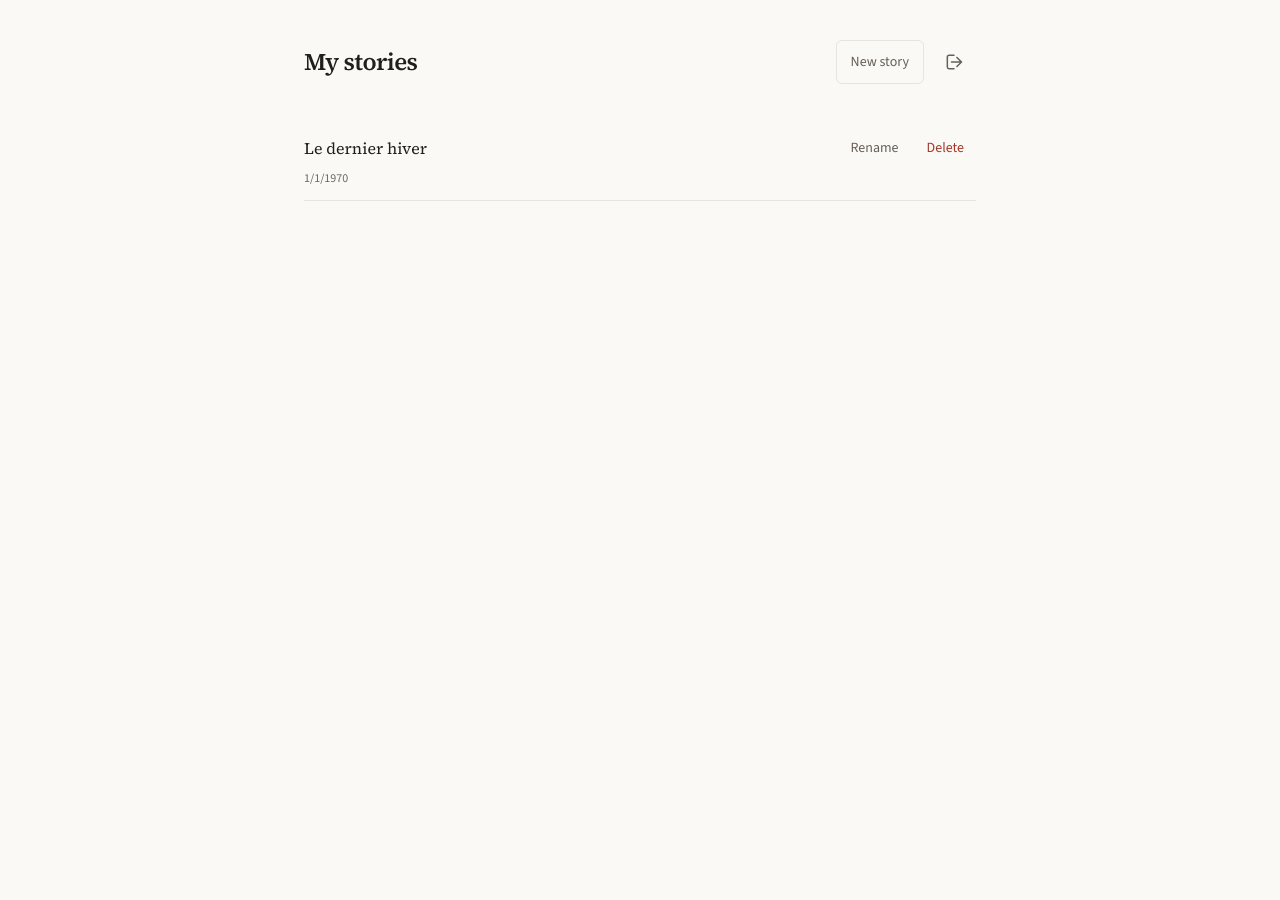
Test: StoriesView › shows an error when deleting a story fails
expect the link "Le dernier hiver" is shown: met, box top-left (304, 137), bottom-right (427, 159)
Click the button with test id "story-delete-button" at (945,148), box top-left (915, 126), bottom-right (976, 170)
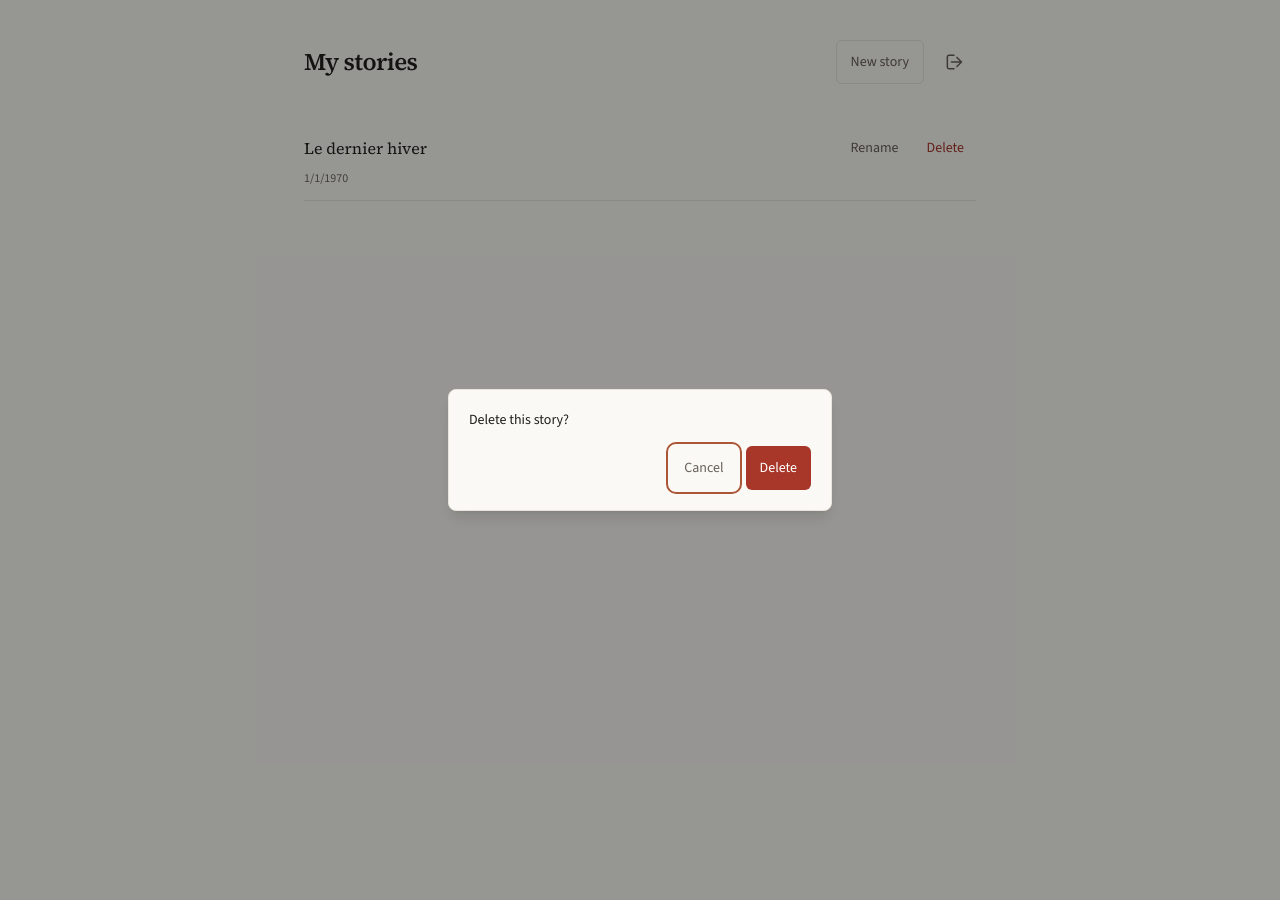
Click the button with test id "confirm-dialog-confirm" at (778,468), box top-left (746, 446), bottom-right (811, 490)
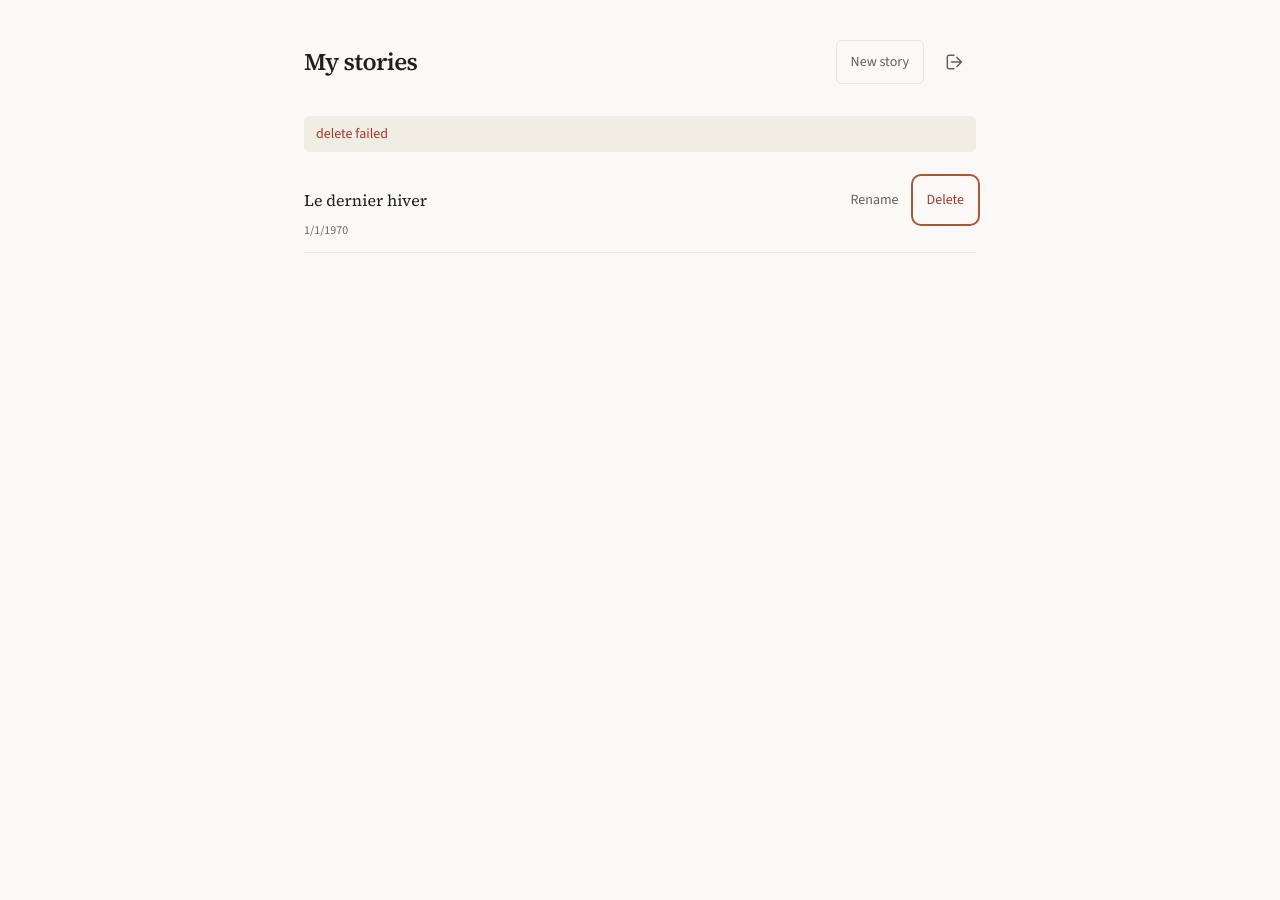
expect the message with test id "stories-action-error" reads "delete failed": met, box top-left (316, 124), bottom-right (388, 143)
